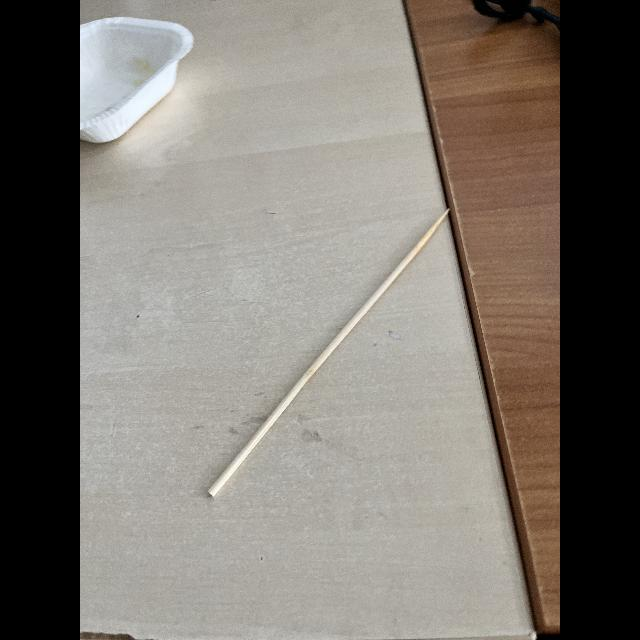cardboard_bowl: (80, 3, 212, 175)
stick: (186, 184, 467, 526)
